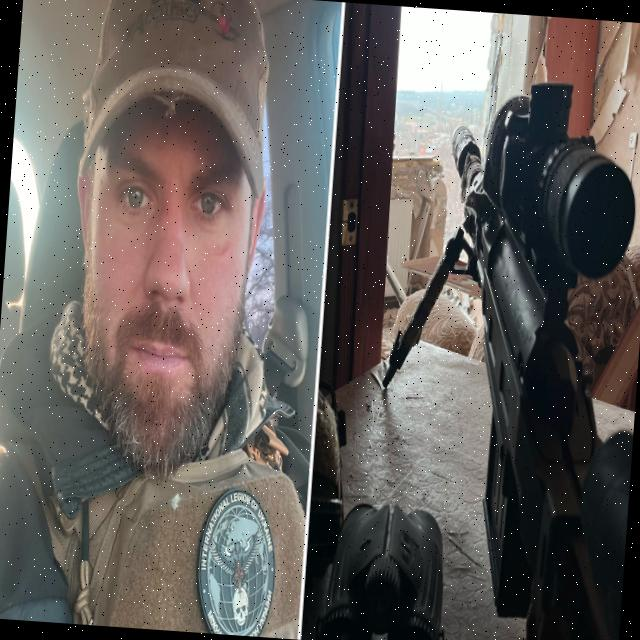Sniper: (359, 55, 640, 640)
